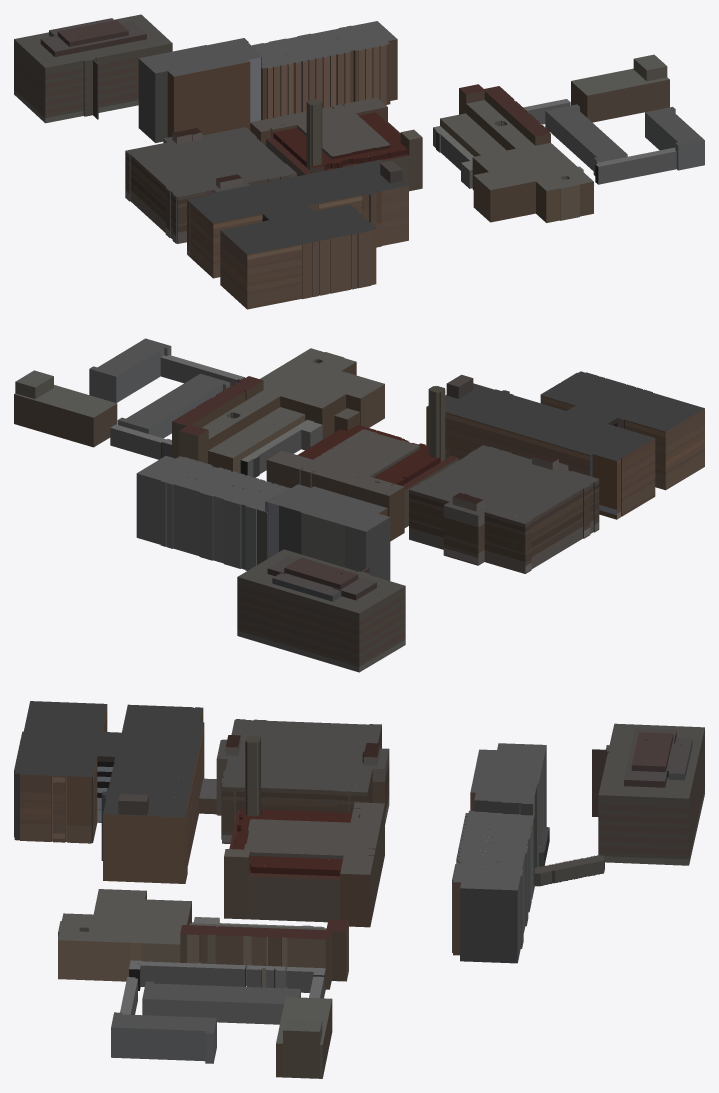
Rendered from t_1_-1.far.glb.
The picture shows the model from 3 angles, top to bottom: view 1: azimuth 30°, elevation 25°; view 2: azimuth 150°, elevation 25°; view 3: azimuth 270°, elevation 25°; orthographic projection. The views are drawn at different scales.
Parts seen in each view (by area): view 1: opaque; view 2: opaque; view 3: opaque.
Part boxes in pixels (box(x1,y1,x2,y2)): opaque: box(14, 14, 704, 309); opaque: box(14, 338, 704, 672); opaque: box(14, 701, 704, 1078).
Size of the model in its own units: 267 by 49 by 250.
1 material, 1 textured.
